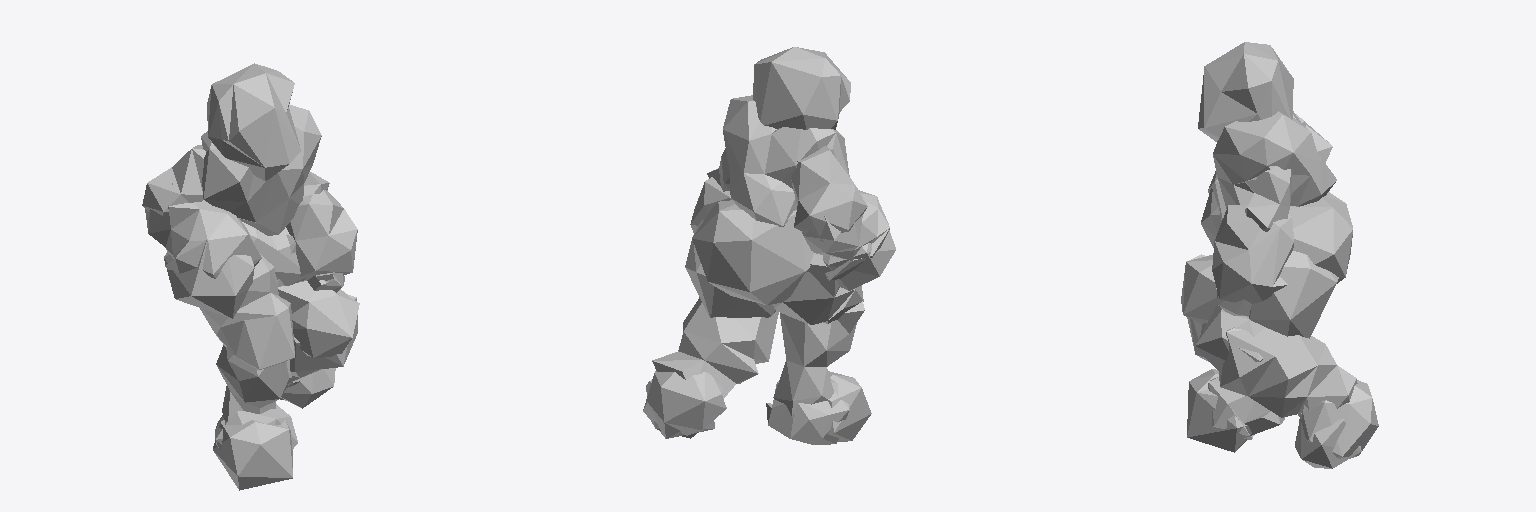
The model's file is dance_frames0368.obj.
The picture shows the model from 3 angles: view 1: azimuth 30°, elevation 25°; view 2: azimuth 150°, elevation 25°; view 3: azimuth 270°, elevation 25°; orthographic projection.
Visible parts, largest first — view 1: Beta_Surface; view 2: Beta_Surface; view 3: Beta_Surface.
Part boxes in pixels (x1,y1,x2,y2): Beta_Surface: (142, 63, 359, 490); Beta_Surface: (643, 47, 895, 444); Beta_Surface: (1181, 42, 1378, 468).
Bounding box in the file's own units: 1.01 × 1.88 × 0.8531.